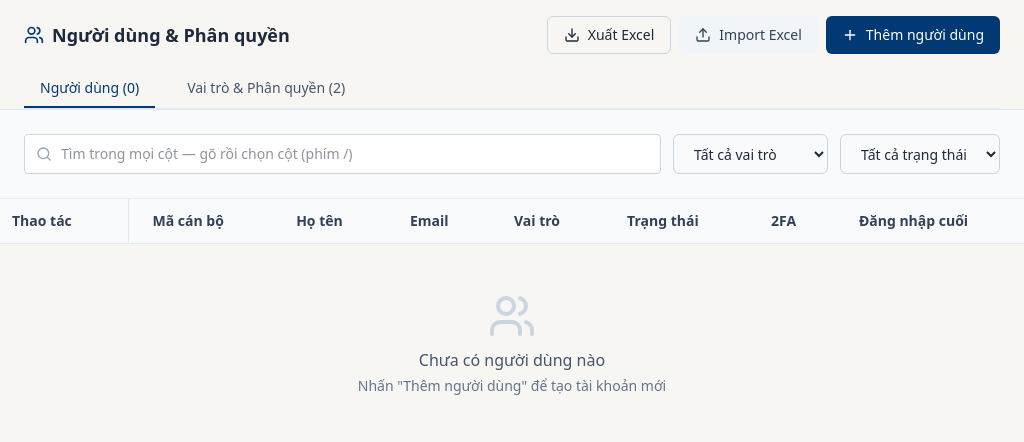
Scenario: Ma trận phân quyền vai trò › đổi vai trò nhanh: kết quả tải TRỄ của vai trò trước bị bỏ, lưới là của vai trò đang chọn
This screenshot has width=1024, height=442.
Click the tab "Vai trò & Phân quyền (2)" at (266, 89), box [171,70,361,108]
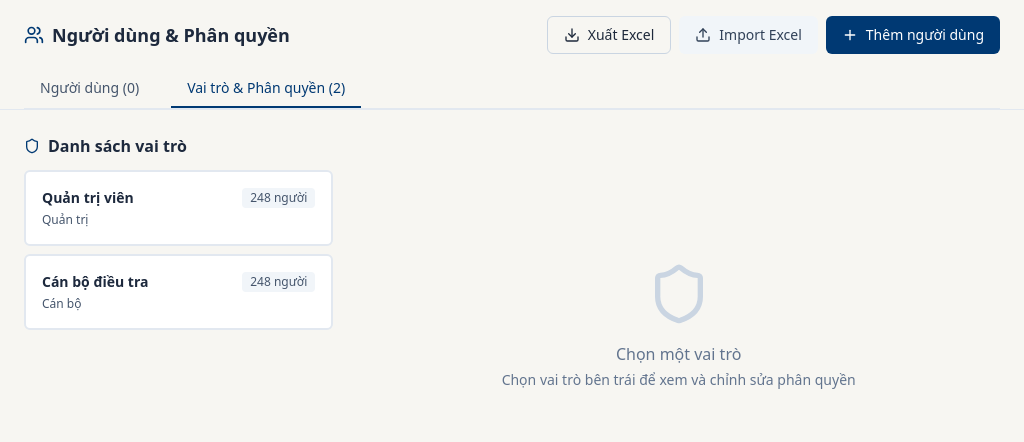
Click the button "Quản trị viên 248 người Quản trị" at (88, 198), box [24,170,333,246]
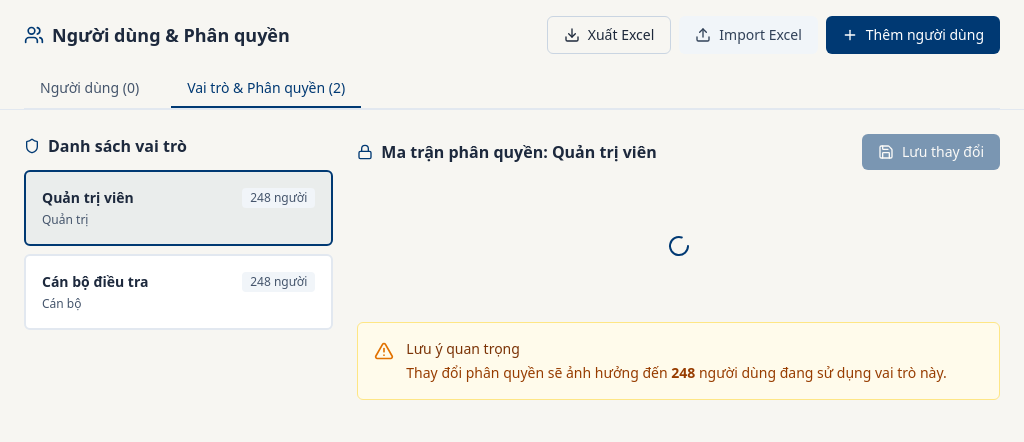
Click the button "Cán bộ điều tra 248 người Cán bộ" at (95, 282), box [24,254,333,330]
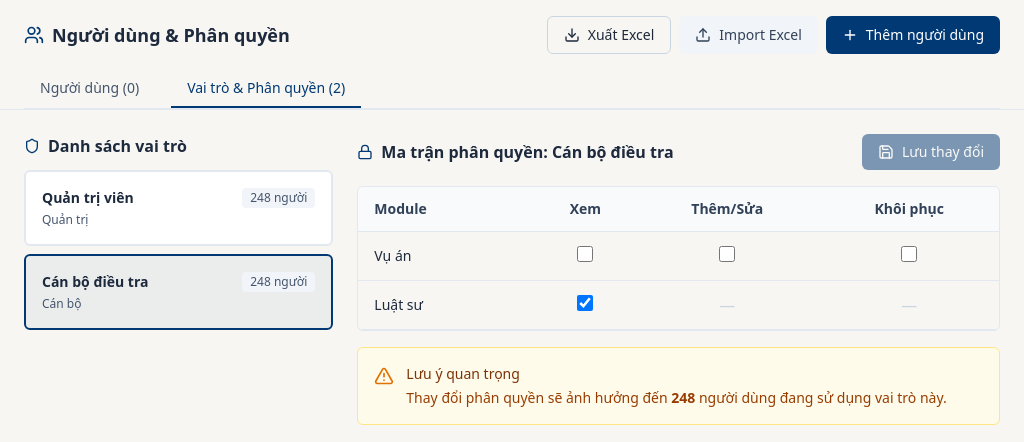
Expected: the checkbox named "Luật sư — Xem" is checked, [577,295,593,311]
Expected: the checkbox named "Vụ án — Xem" is not checked, [577,246,593,262]
Expected: the checkbox named "Vụ án — Khôi phục" is not checked, [901,246,917,262]
